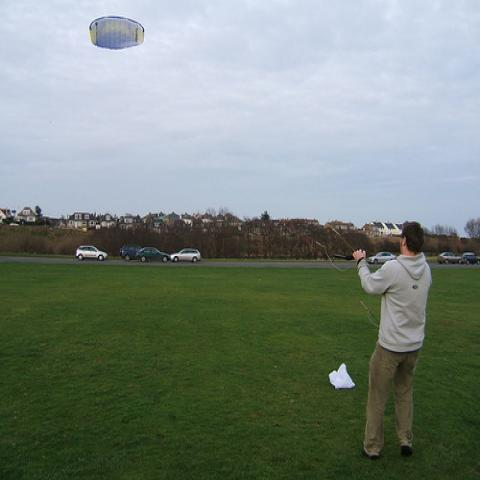car: (135, 246, 169, 262), (76, 246, 108, 262), (170, 250, 200, 264), (120, 244, 142, 262), (368, 251, 396, 263), (437, 252, 461, 264), (461, 253, 479, 266)
